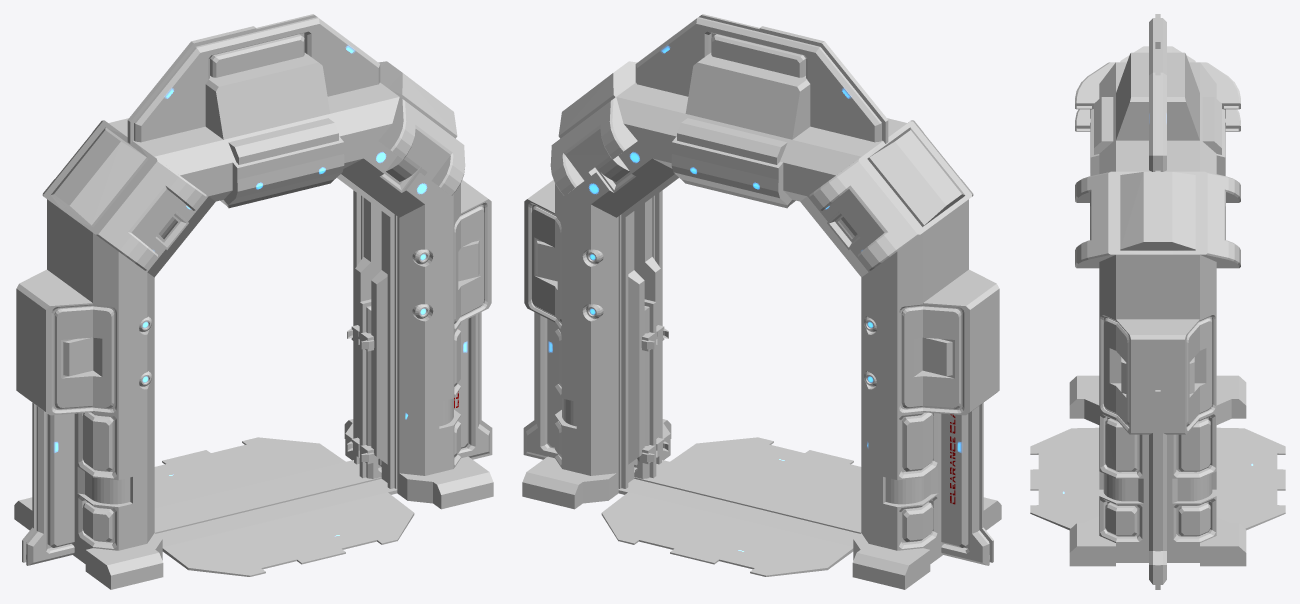
File: Default_Open.fbx
3 views of the same model, side by side, from view 1: azimuth 30°, elevation 25°; view 2: azimuth 150°, elevation 25°; view 3: azimuth 270°, elevation 25° (orthographic). The views are drawn at different scales.
Parts seen in each view (by area): view 1: Door_Frame, Door_Top, Door_Right, Door_Left; view 2: Door_Frame, Door_Top, Door_Right, Door_Left; view 3: Door_Frame, Door_Left, Door_Top.
Part boxes in pixels (x1,y1,x2,y2): Door_Frame: (14, 53, 493, 589); Door_Top: (127, 14, 380, 204); Door_Right: (22, 403, 74, 565); Door_Left: (347, 299, 492, 478); Door_Frame: (522, 53, 1001, 589); Door_Top: (635, 14, 888, 204); Door_Right: (941, 403, 993, 565); Door_Left: (523, 299, 668, 478); Door_Frame: (1030, 46, 1285, 566); Door_Left: (1149, 390, 1166, 589); Door_Top: (1149, 14, 1166, 171).
Bounding box in the file's own units: 383 × 380 × 199.
